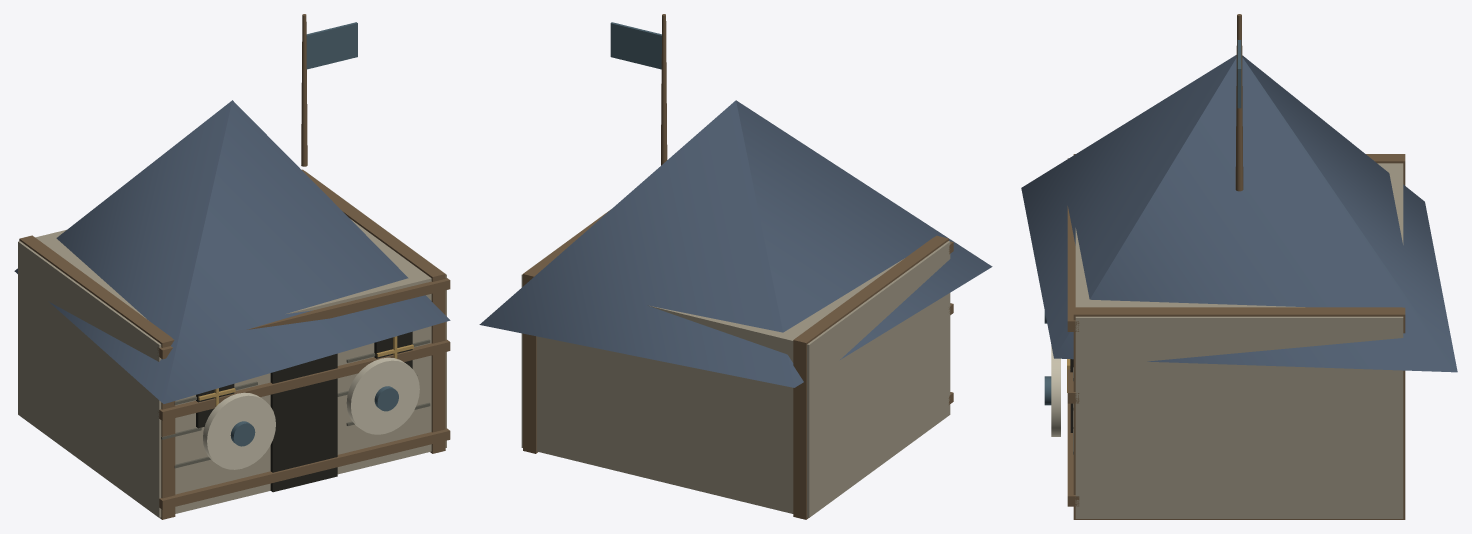
File: b-range-french.glb
3 renders of one model, left to right at view 1: azimuth 30°, elevation 25°; view 2: azimuth 150°, elevation 25°; view 3: azimuth 270°, elevation 25°, orthographic. The views are drawn at different scales.
Visible parts, largest first — view 1: Structure; view 2: Structure; view 3: Structure.
Boxes of the visible parts, x1=… form: Structure: x1=14, y1=14, x2=450, y2=519; Structure: x1=479, y1=14, x2=992, y2=519; Structure: x1=1021, y1=14, x2=1457, y2=519.
Size of the model in its own units: 4.53 by 5.33 by 4.53.
